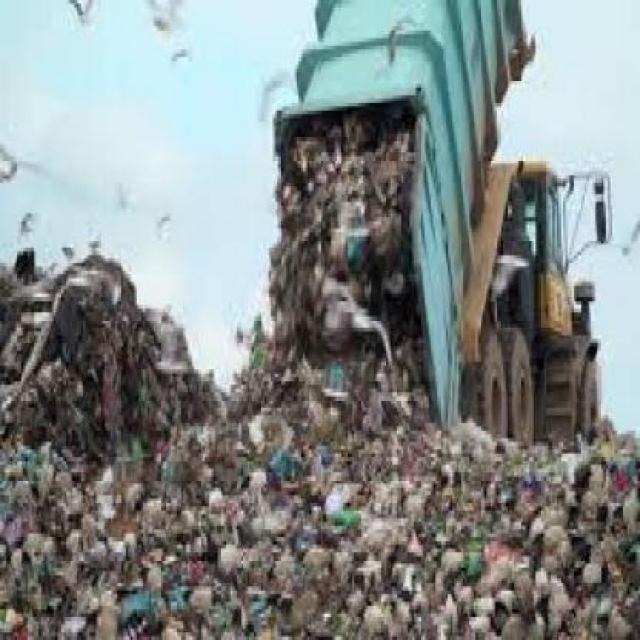garbage: (134, 428, 638, 637), (243, 129, 446, 494), (3, 260, 180, 637)
